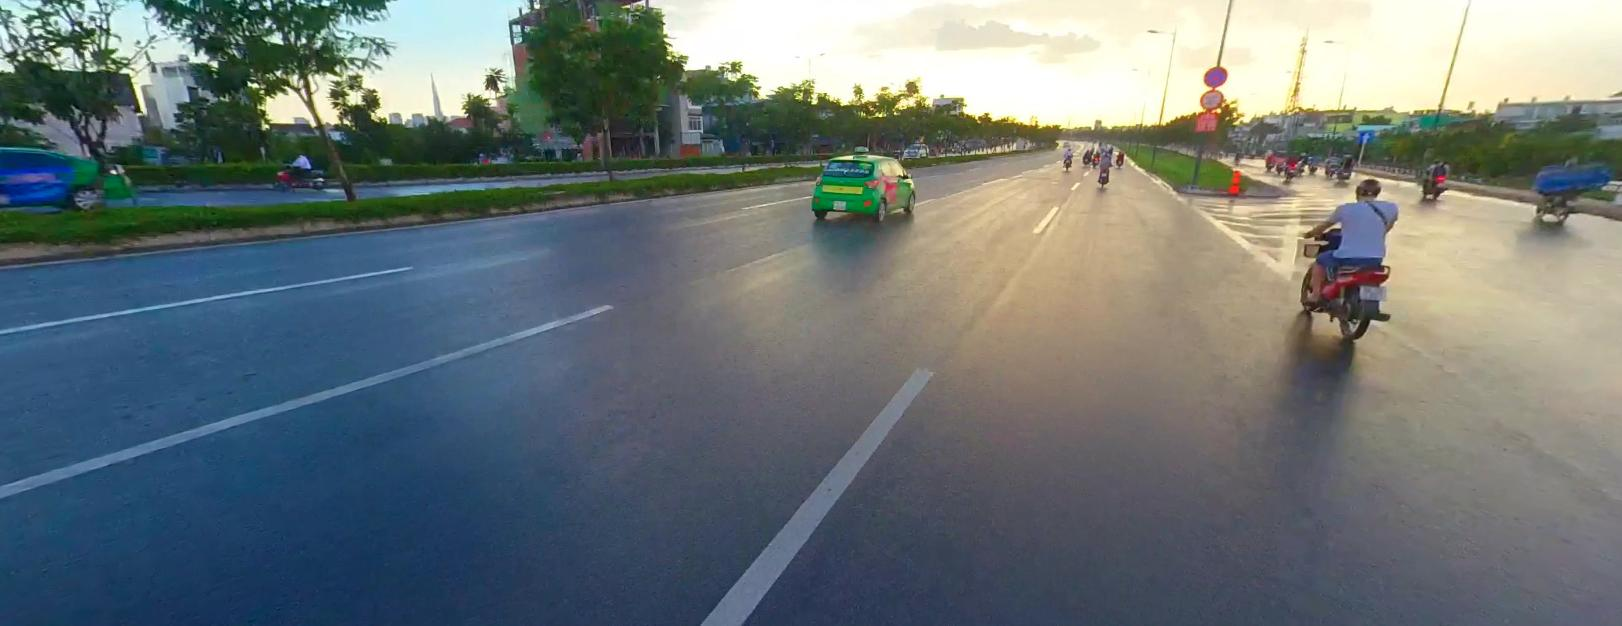Cam con lai: (1199, 88, 1223, 109)
Cam dung va do: (1203, 65, 1227, 87)
